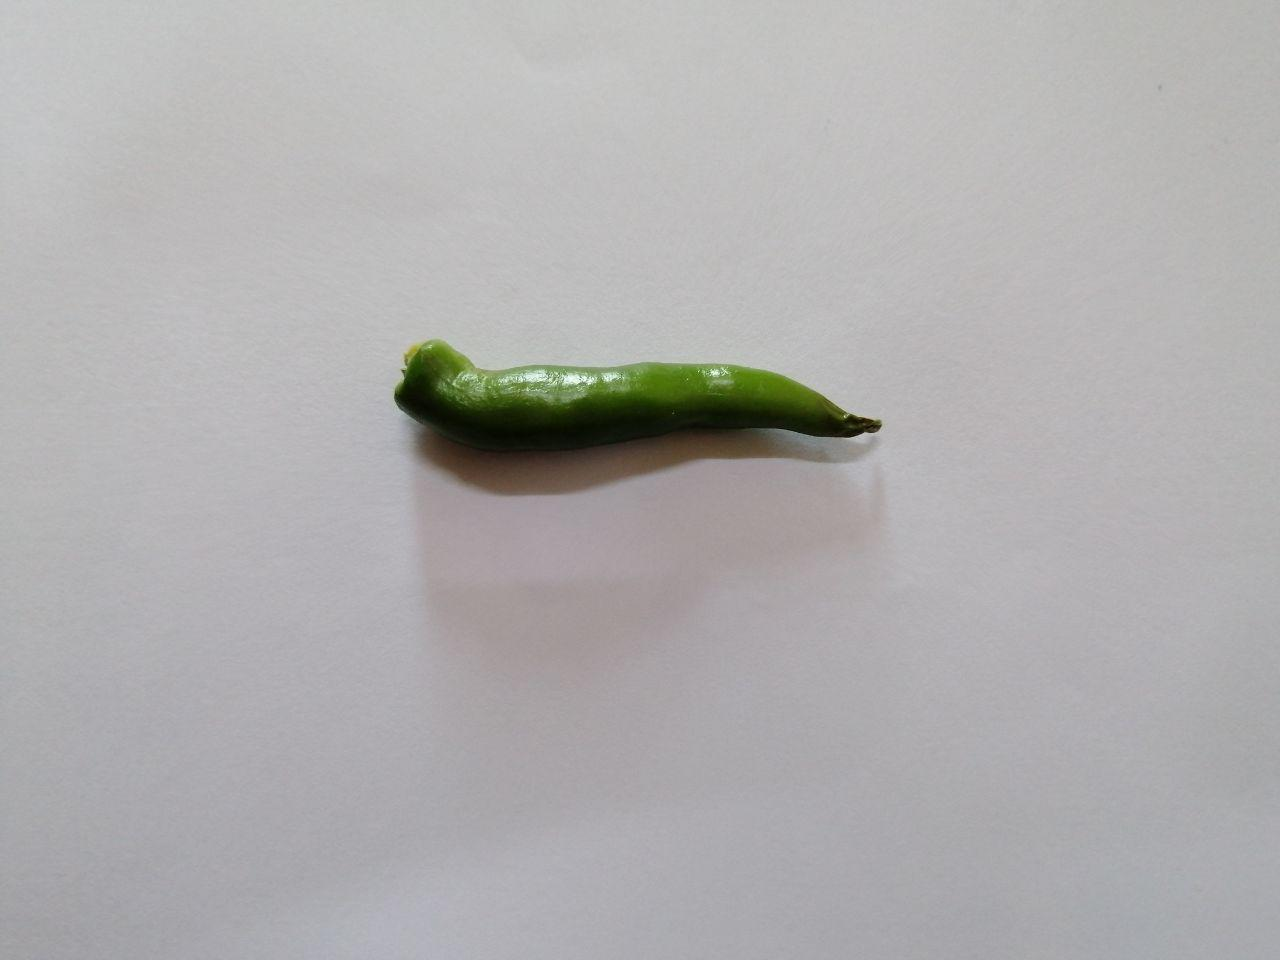lada hijau: (360, 317, 918, 511)
